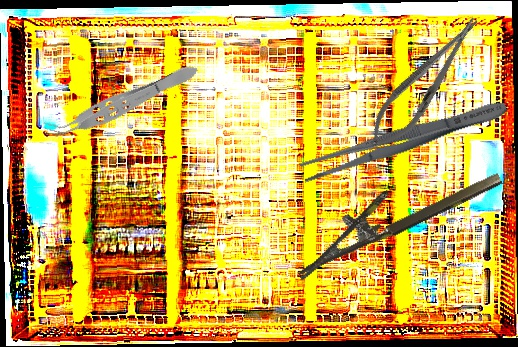Dressing Forceps: (297, 93, 511, 187)
Needle Holder: (282, 144, 504, 281), (358, 7, 492, 159)
Tissue Forceps: (41, 56, 203, 148)
